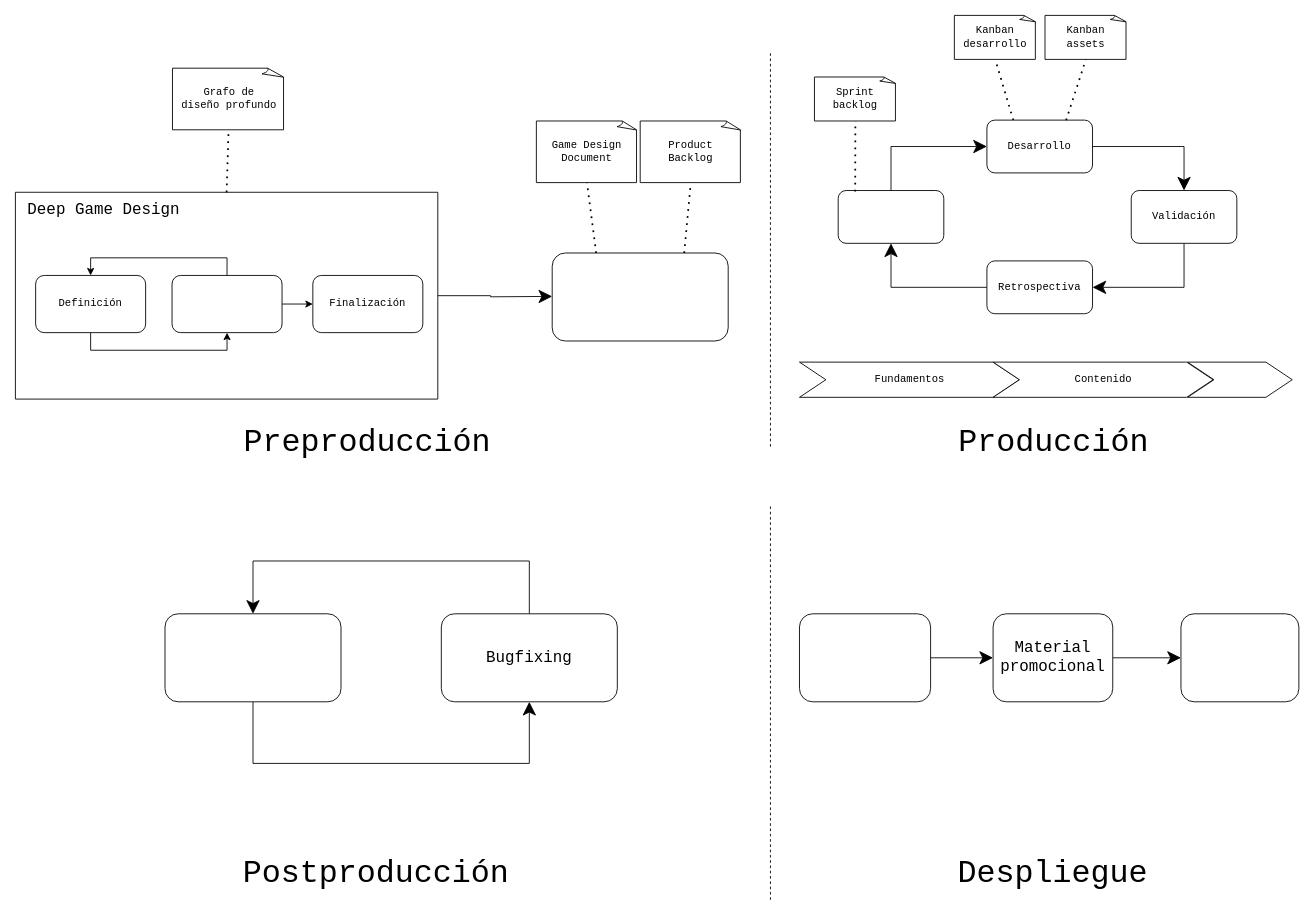
This 1315x916 diagram has some shape labels left out. Each missing label, with the box of its shape:
Beta test: (164, 613, 341, 702)
Cierre: (1187, 361, 1292, 397)
Documentación: (551, 252, 728, 341)
Exploración: (171, 275, 282, 333)
Producir build final: (799, 613, 931, 702)
Publicación: (1180, 613, 1299, 702)
Sprint Planning: (837, 190, 944, 243)
